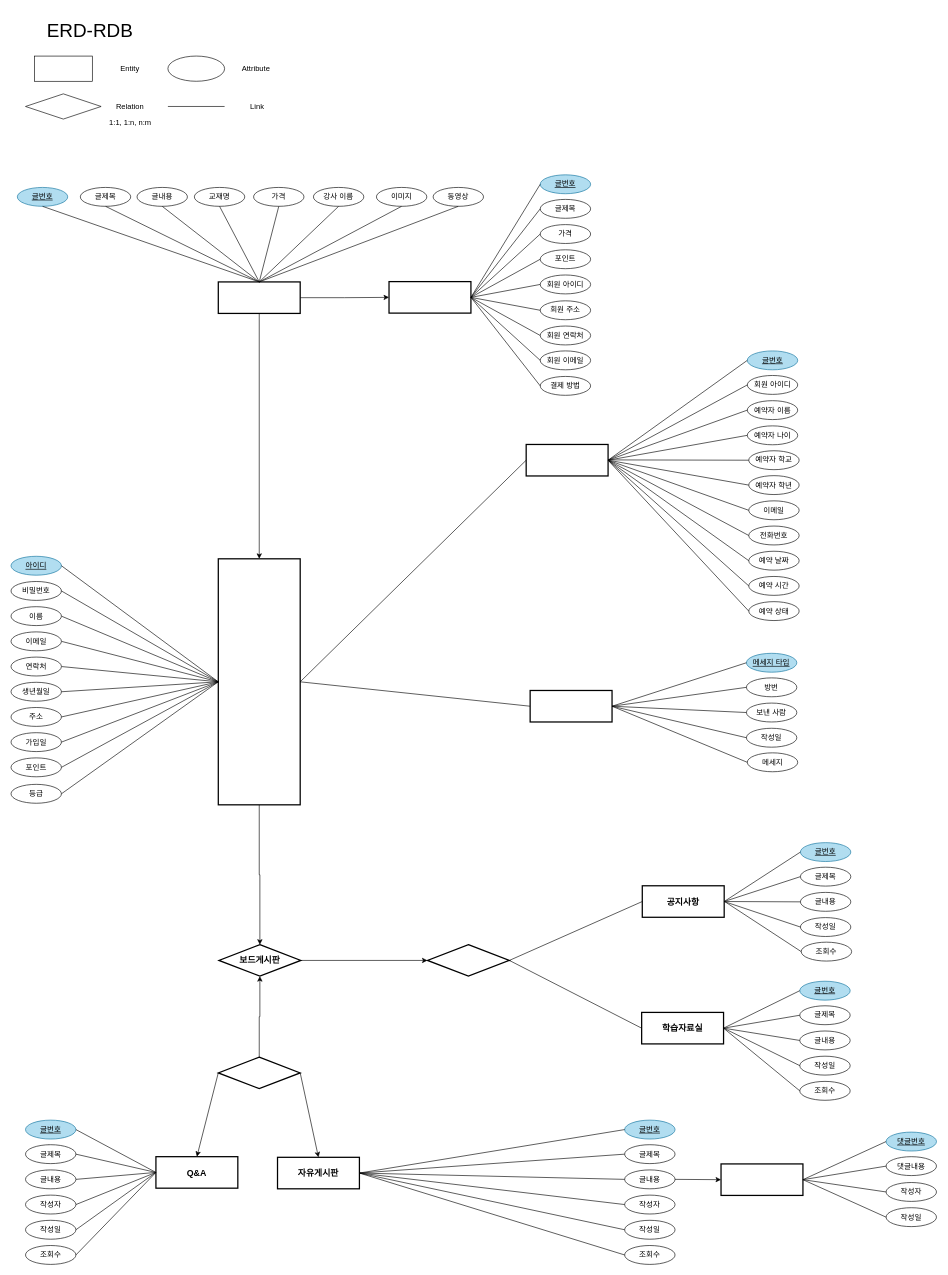
Image size: 948x1275. Some labels were removed from this diagram. Here are the shapes that lost their labels. From the top down, the centre of each, then its label:
the point at 259,297: 강의
the point at 429,297: 결제
the point at 566,460: 예약
the point at 259,681: 회원
the point at 570,706: 채팅
the point at 468,960: 읽기
the point at 259,1072: 작성
the point at 761,1179: 댓글
